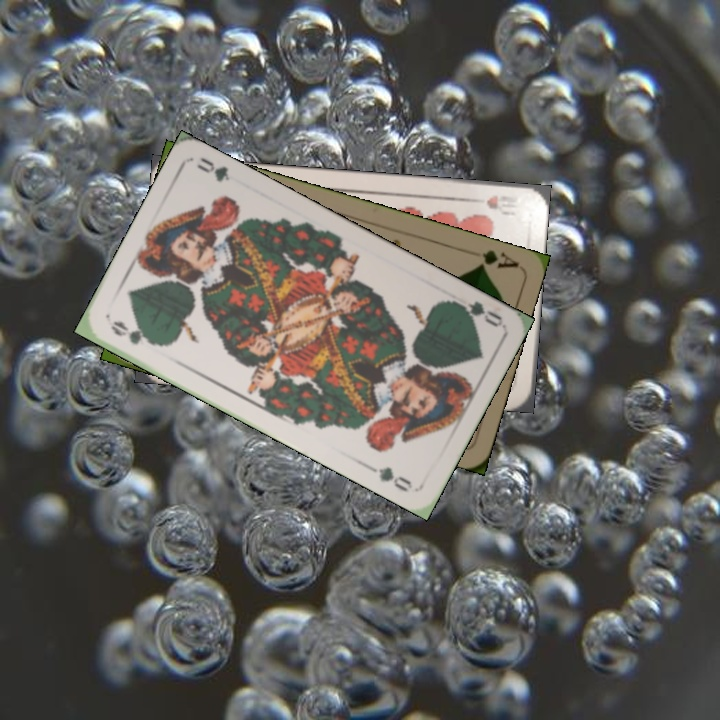GA: (473, 246, 520, 272)
GO: (447, 296, 505, 330), (106, 316, 162, 348)
H10: (464, 191, 524, 216)
